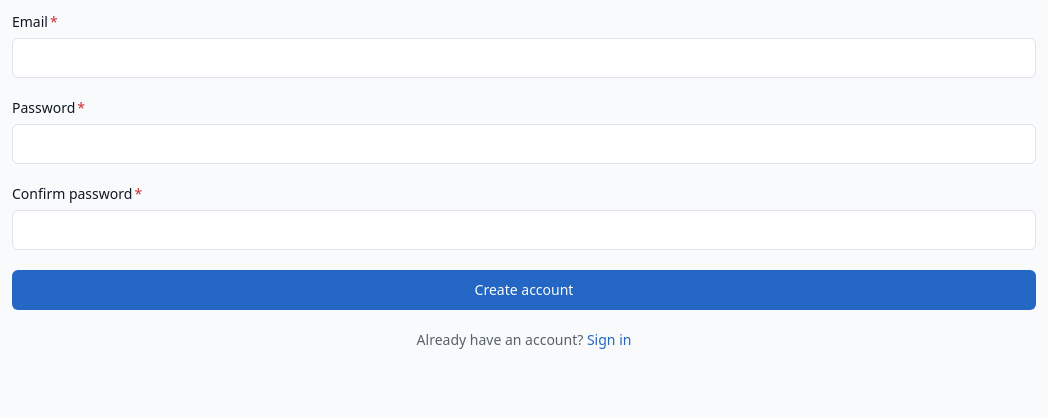
Test: RegisterForm › validates confirmation and backend-compatible password policy
Type "test@example.com" into the field labelled "Email*". click: x=524, y=58
box: [12,38,1036,78]
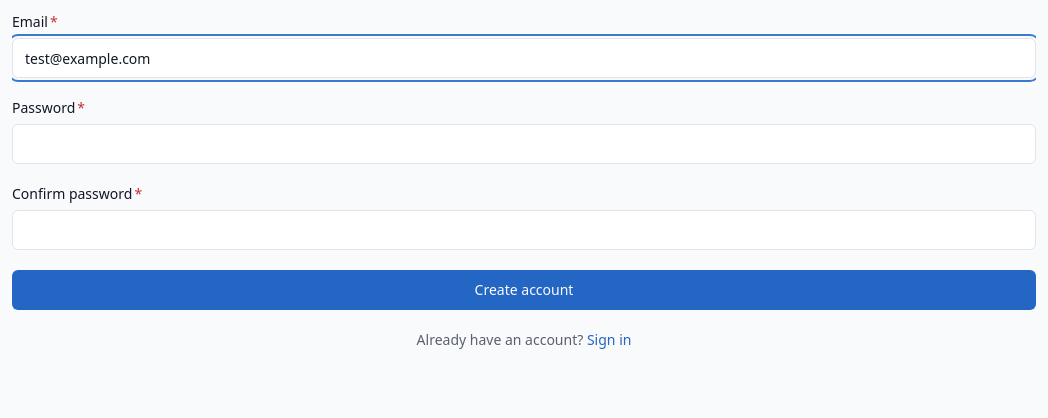
Type "weak" into the password field labelled "Password*". click: x=524, y=144
box: [12,124,1036,164]
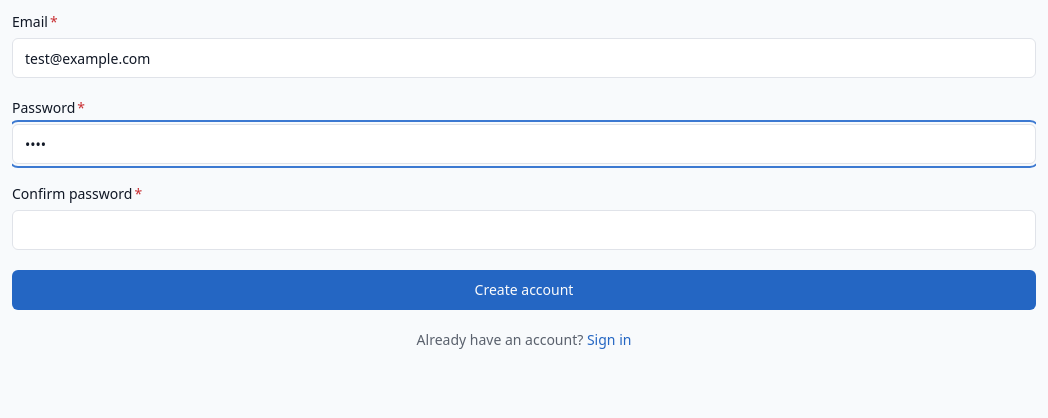
Type "different" into the password field labelled "Confirm password*". click: x=524, y=230
box: [12,210,1036,250]
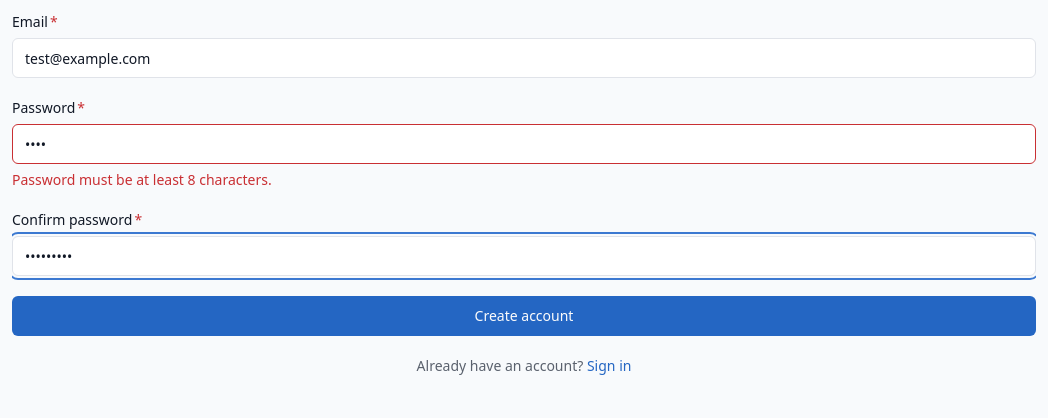
Click the button "Create account". click: x=524, y=316
box: [12,296,1036,336]
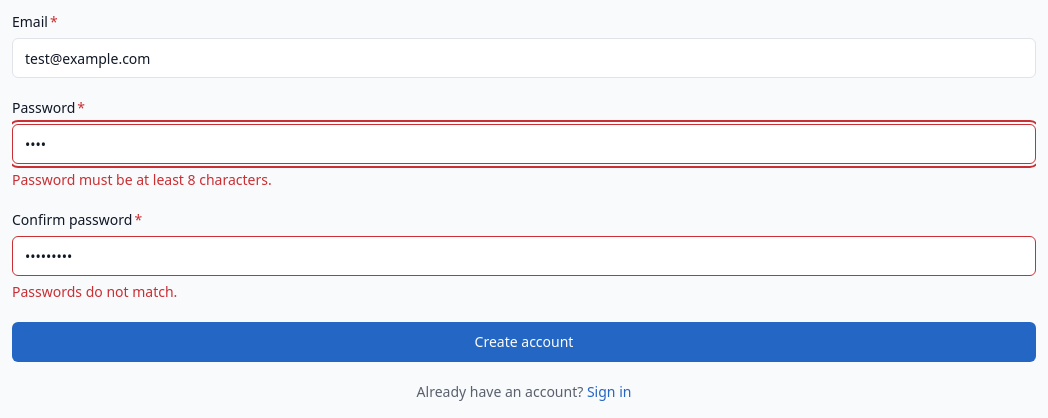
Expected: the text "Password must be at least 8 characters." is shown, [12,170,272,189]
Expected: the text "Passwords do not match." is shown, [12,282,177,301]
